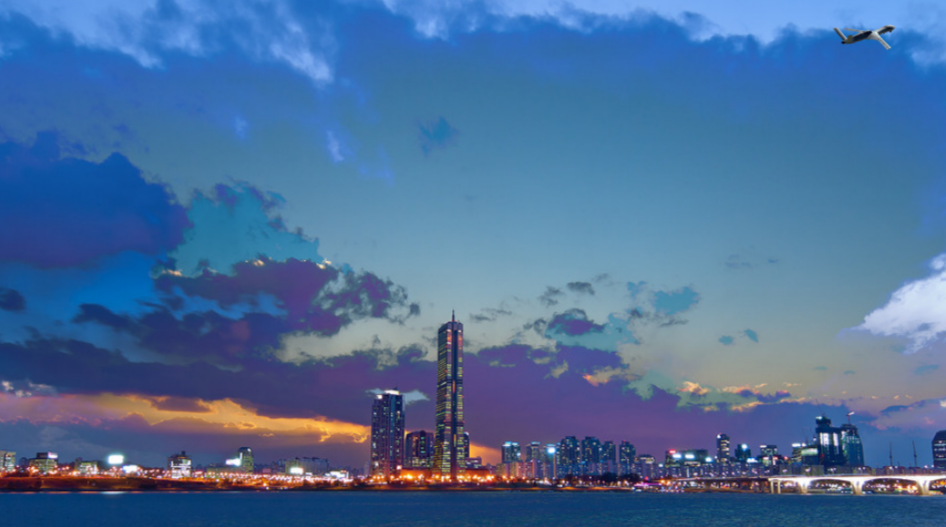military drone: (833, 23, 895, 50)
